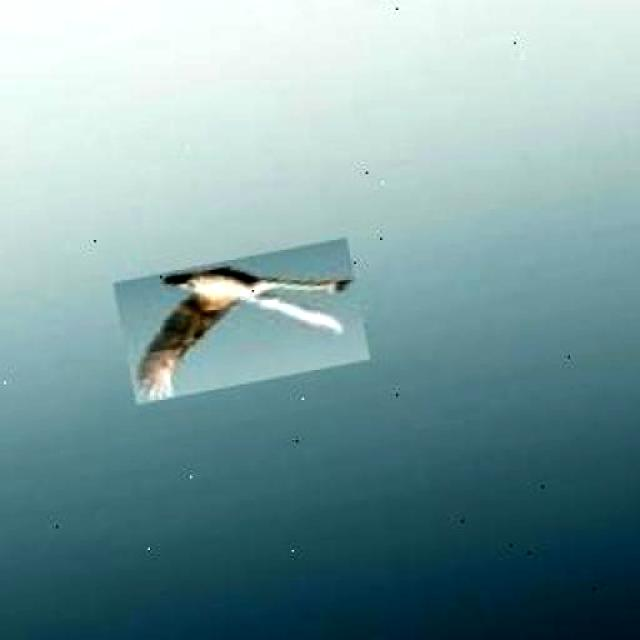airplane: (114, 239, 370, 405)
